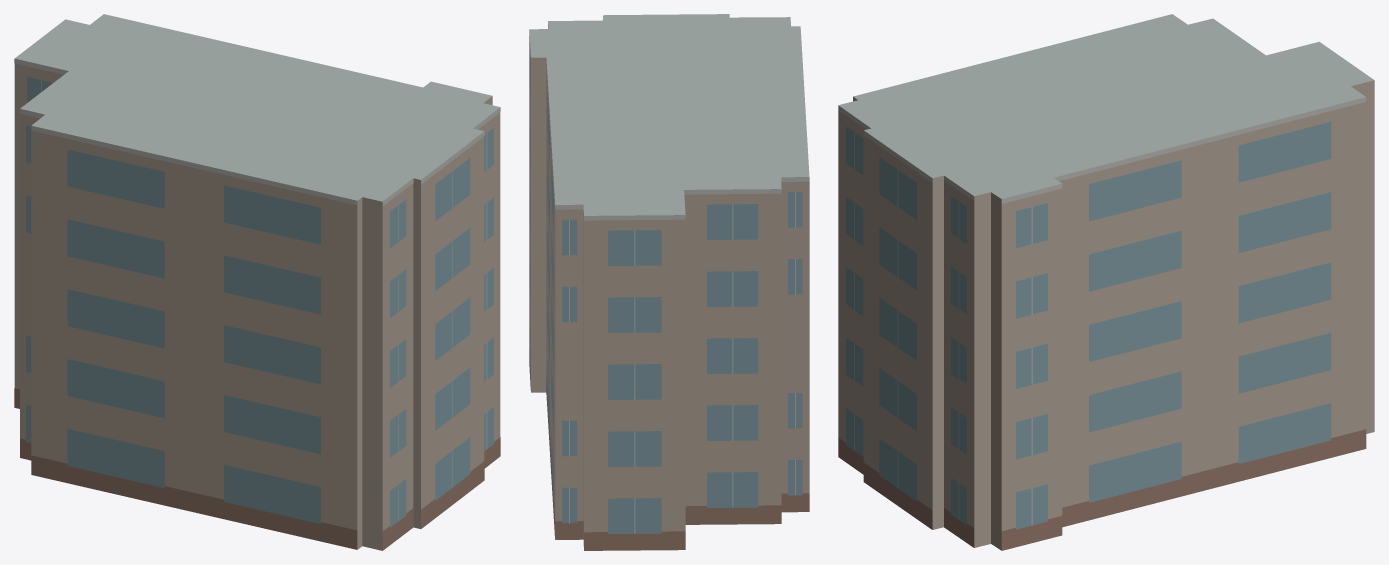
Rendered from survey-upis-32679533.glb.
The picture shows the model from 3 angles, left to right: view 1: azimuth 30°, elevation 25°; view 2: azimuth 150°, elevation 25°; view 3: azimuth 270°, elevation 25°; orthographic projection. The views are drawn at different scales.
Parts seen in each view (by area): view 1: survey-upis-32679533.tmp; view 2: survey-upis-32679533.tmp; view 3: survey-upis-32679533.tmp.
Boxes of the visible parts, left/top/right/bottom form: survey-upis-32679533.tmp: left=14, top=14, right=500, bottom=550; survey-upis-32679533.tmp: left=529, top=14, right=809, bottom=550; survey-upis-32679533.tmp: left=838, top=14, right=1374, bottom=550.
Size of the model in its own units: 19.88 by 17.6 by 24.33.
